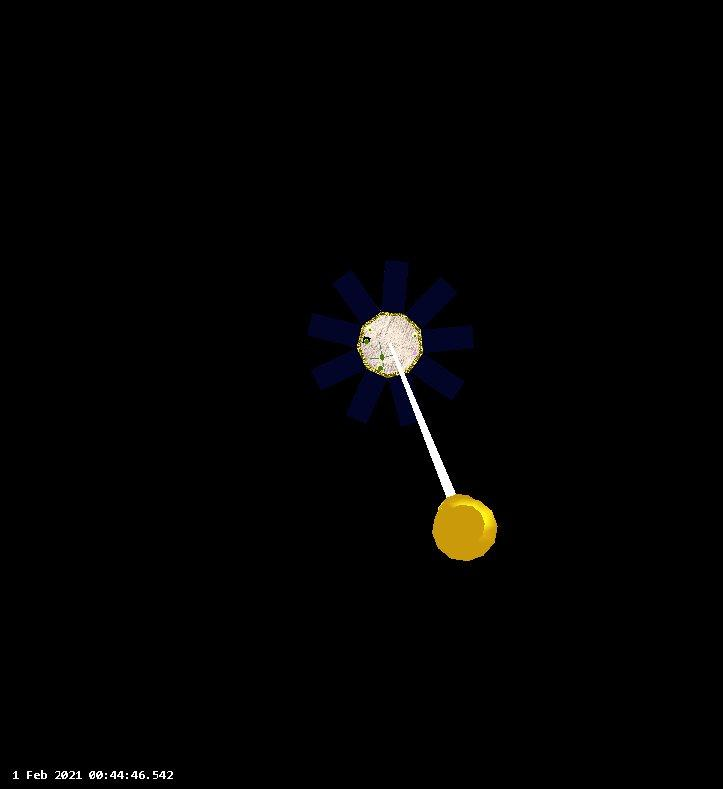antenna: (387, 338, 501, 563)
body: (354, 308, 425, 379)
solar: (332, 269, 381, 326), (406, 277, 458, 329), (409, 353, 465, 401), (345, 369, 388, 426), (311, 349, 366, 391), (387, 373, 428, 426), (307, 312, 362, 349), (420, 325, 484, 352), (381, 259, 410, 315)
